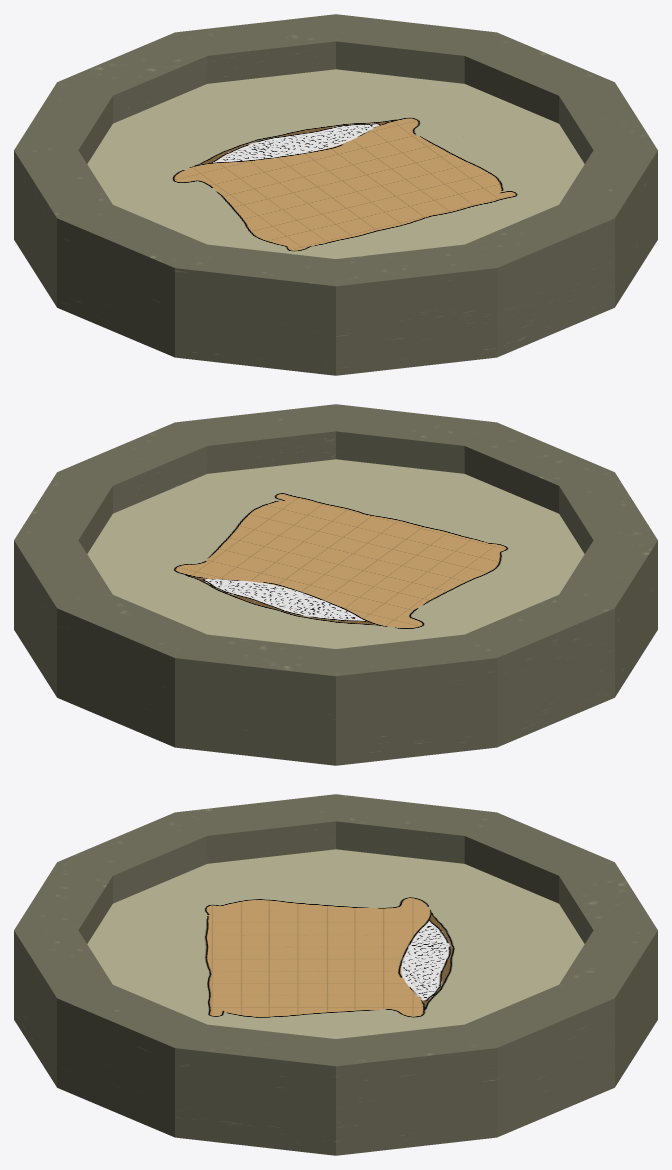
The model's file is SackOfRiceSign.fbx.
3 renders of one model, top to bottom at view 1: azimuth 30°, elevation 25°; view 2: azimuth 150°, elevation 25°; view 3: azimuth 270°, elevation 25°, orthographic.
Parts seen in each view (by area): view 1: pCylinder3; view 2: pCylinder3; view 3: pCylinder3.
Part boxes in pixels (x1=…): pCylinder3: x1=14, y1=14, x2=657, y2=375; pCylinder3: x1=14, y1=404, x2=657, y2=765; pCylinder3: x1=14, y1=794, x2=657, y2=1155.
Size of the model in its own units: 2.51 by 0.3845 by 2.51.
